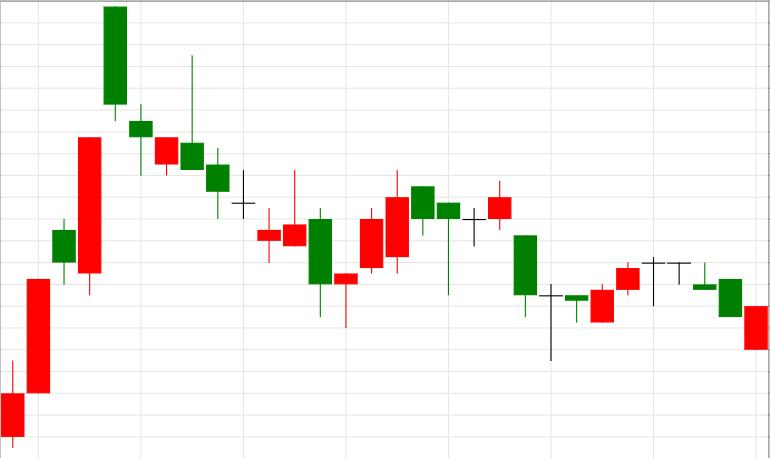morning_star_rise: (180, 54, 384, 328)
